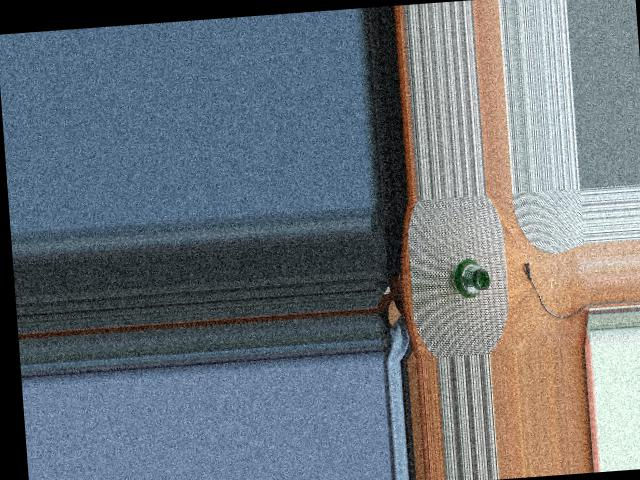beer: (449, 258, 490, 296)
